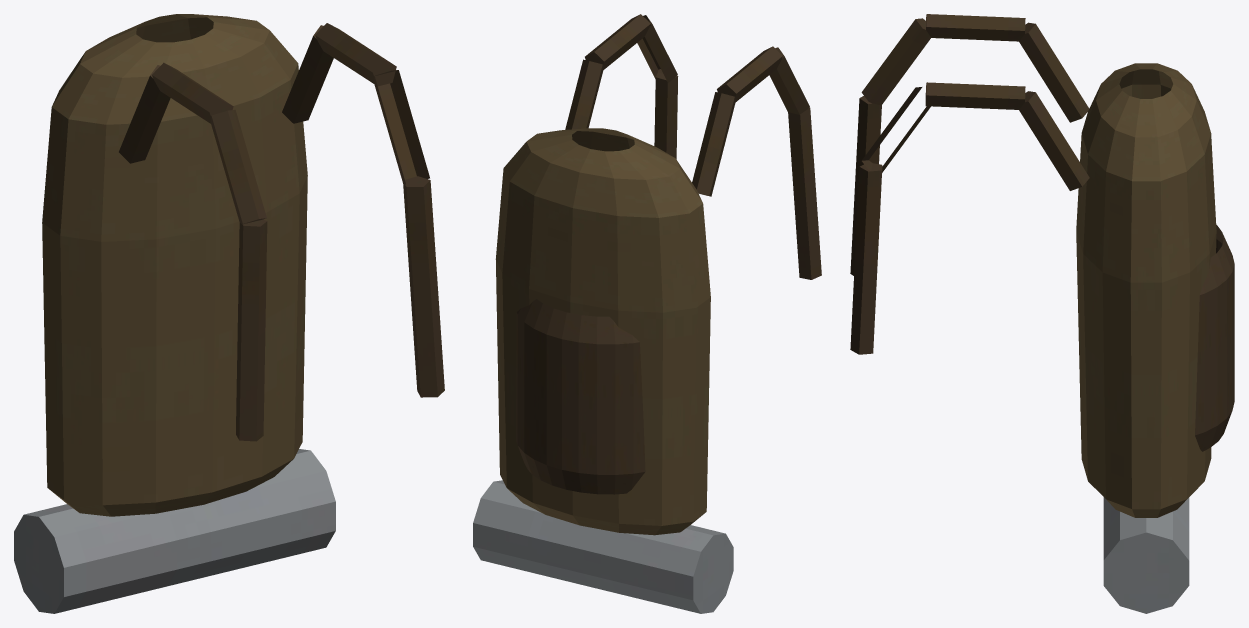
The model's file is acc_backpack.glb.
The picture shows the model from 3 angles, left to right: view 1: azimuth 30°, elevation 25°; view 2: azimuth 150°, elevation 25°; view 3: azimuth 270°, elevation 25°; orthographic projection. The views are drawn at different scales.
Visible parts, largest first — view 1: acc_backpack; view 2: acc_backpack; view 3: acc_backpack.
Boxes of the visible parts, <box> form: acc_backpack: <box>14,14,444,613</box>; acc_backpack: <box>473,14,821,613</box>; acc_backpack: <box>850,14,1234,613</box>.
Bounding box in the file's own units: 0.3 × 0.624 × 0.427.
Materials: 3 (3 with a texture image).
